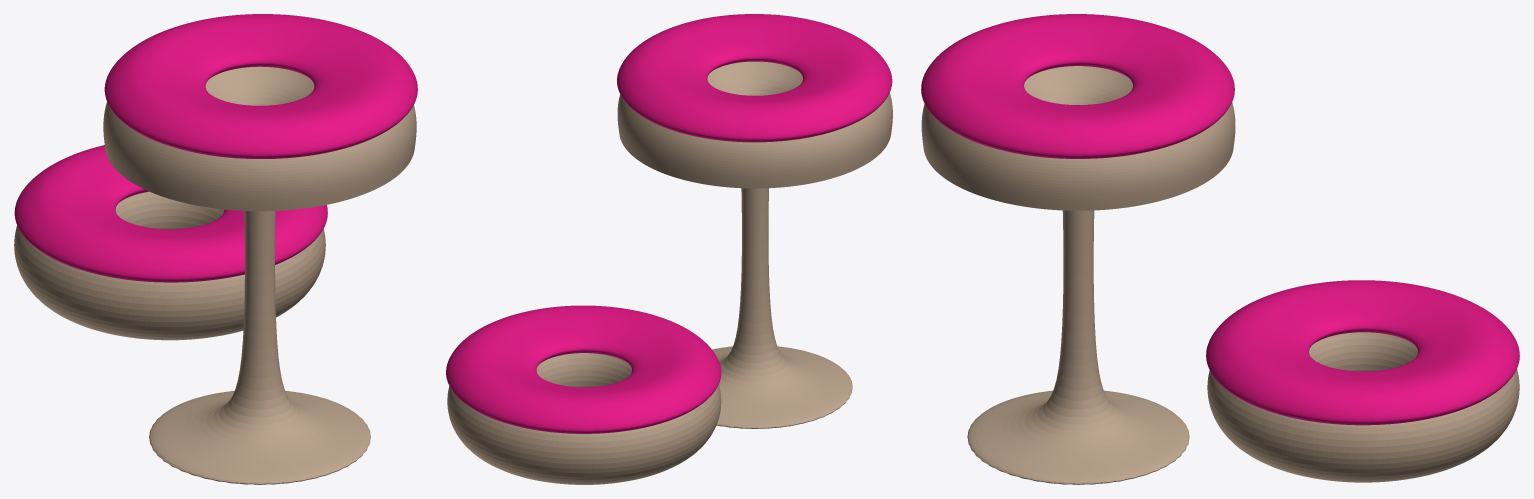
The model's file is lamp.fbx.
3 views of the same model, side by side, from view 1: azimuth 30°, elevation 25°; view 2: azimuth 150°, elevation 25°; view 3: azimuth 270°, elevation 25° (orthographic). The views are drawn at different scales.
Parts seen in each view (by area): view 1: Torus.001, Torus.002, Torus.003, Torus.004; view 2: Torus.001, Torus.002, Torus.003, Torus.004; view 3: Torus.001, Torus.003, Torus.002, Torus.004.
Part boxes in pixels (x1,y1,x2,y2): Torus.001: (103,66,416,484); Torus.002: (104,14,417,158); Torus.003: (14,145,327,282); Torus.004: (14,191,325,340); Torus.001: (617,61,892,428); Torus.002: (617,14,892,142); Torus.003: (446,305,721,433); Torus.004: (447,353,721,484); Torus.001: (921,66,1235,484); Torus.003: (1206,280,1519,425); Torus.002: (921,14,1234,158); Torus.004: (1207,332,1519,482).
Size of the model in its own units: 177 by 195 by 282.
